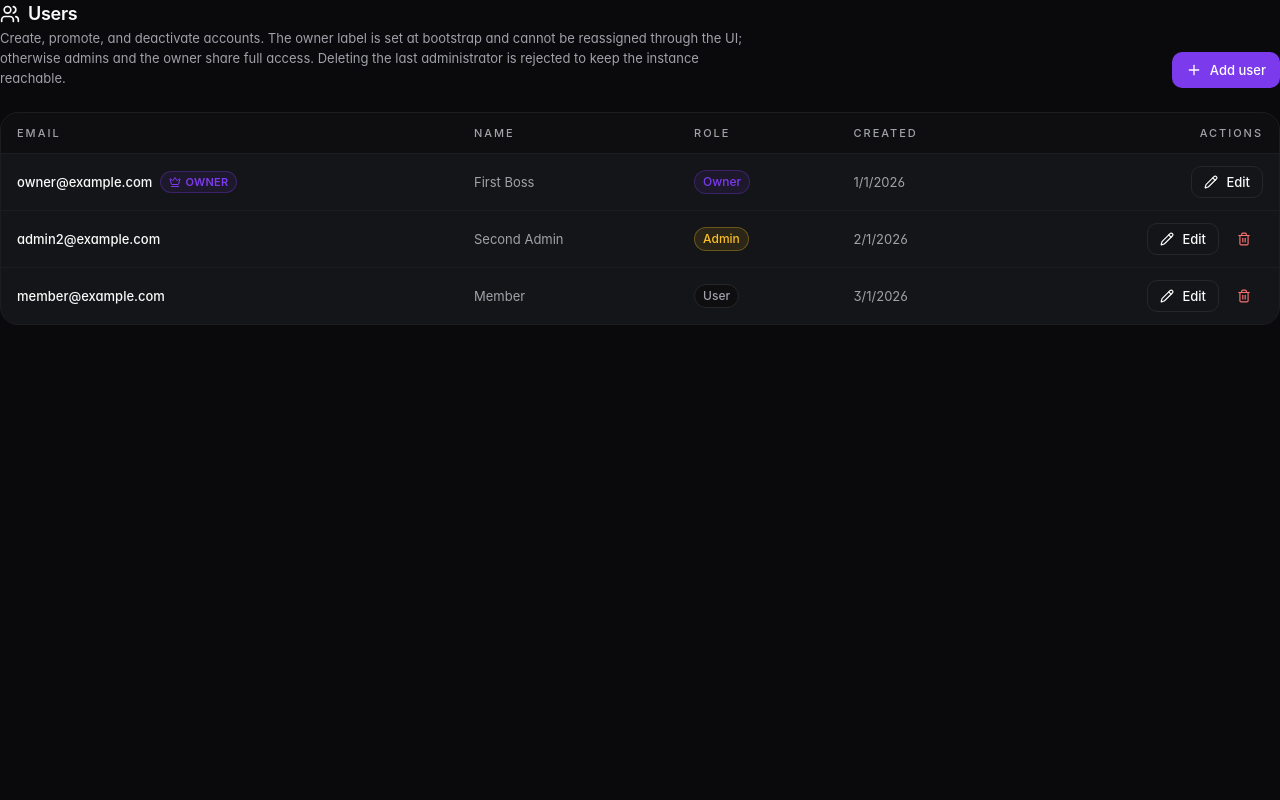
Test case: AdminUsersPage › creates a new user via POST and refreshes the list
Expected: the text "owner@example.com" is shown, [17,172,152,192]
Click the button "Add user" at {"x": 1226, "y": 70}, box [1172,52,1279,88]
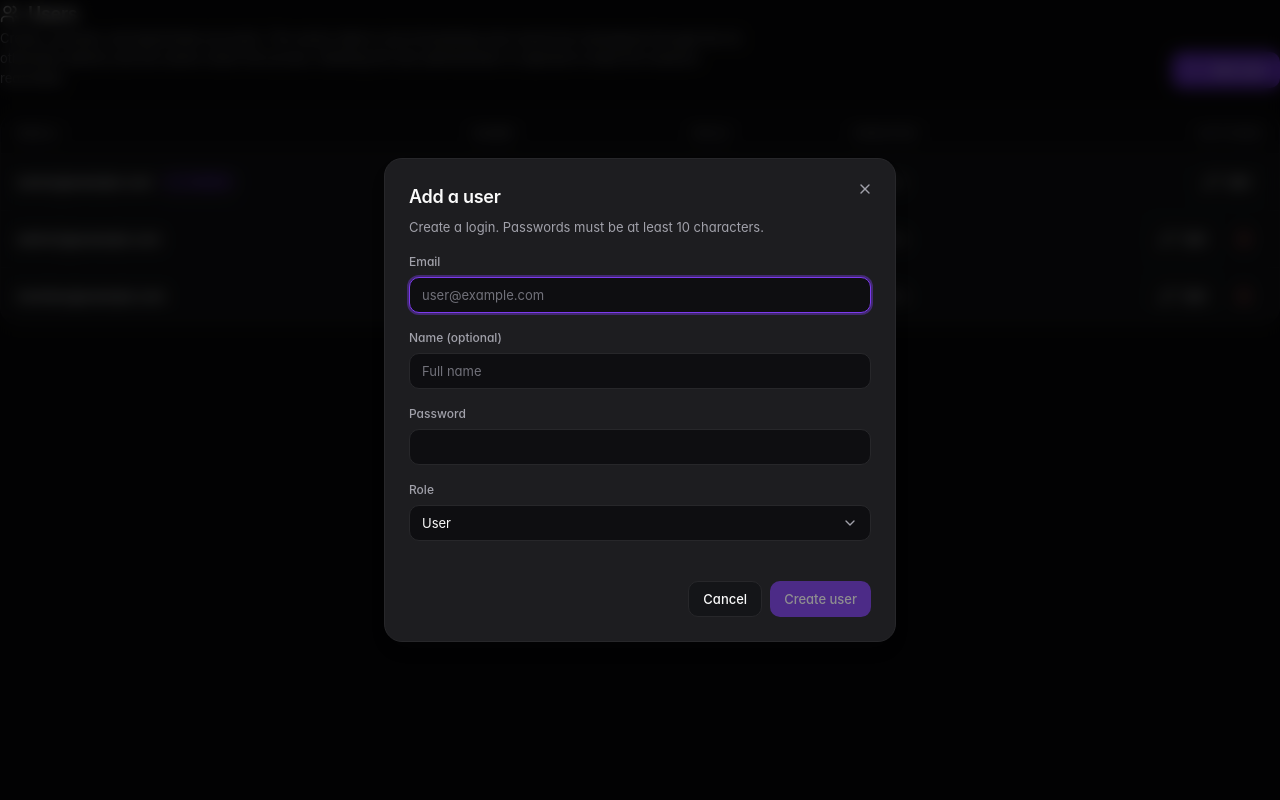
Type "newbie@example.com" into the field with placeholder "user@example.com" at {"x": 640, "y": 295}, box [409,277,871,313]
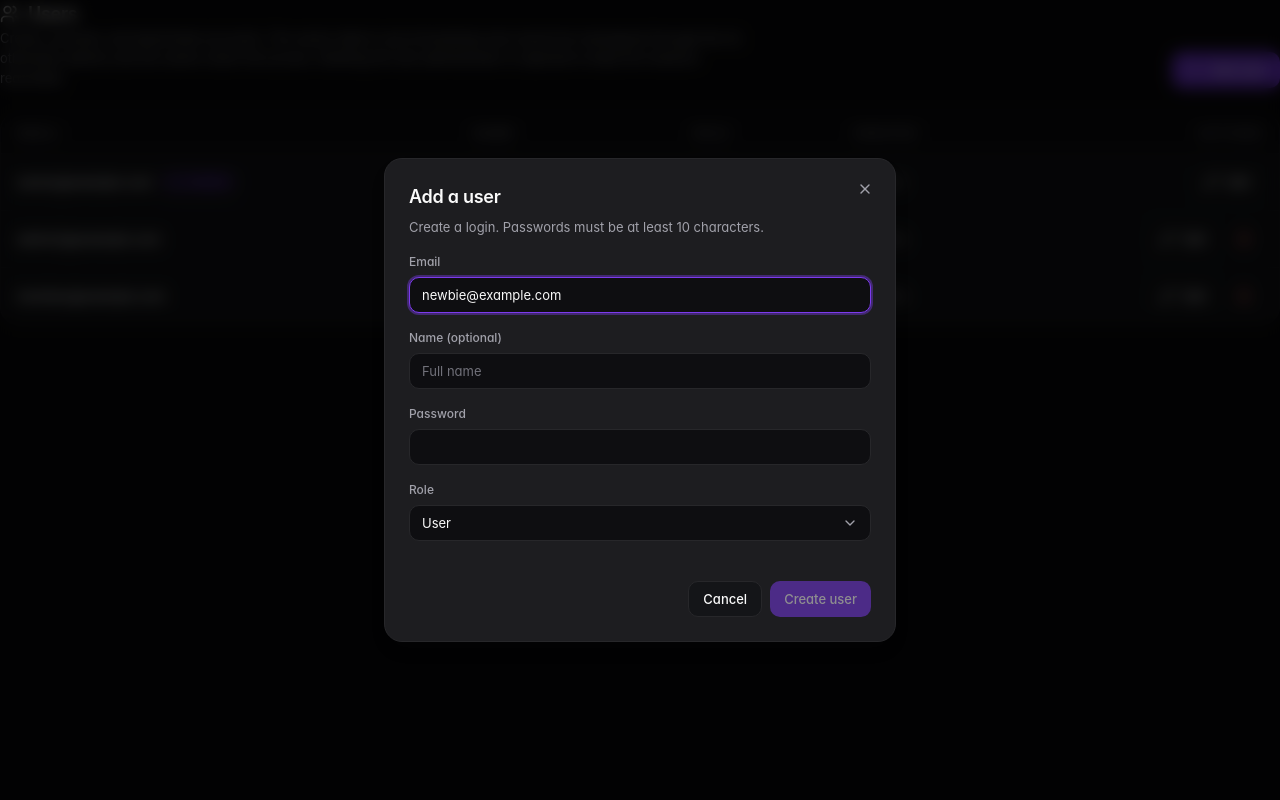
Type "Newbie" into the field with placeholder "Full name" at {"x": 640, "y": 371}, box [409,353,871,389]
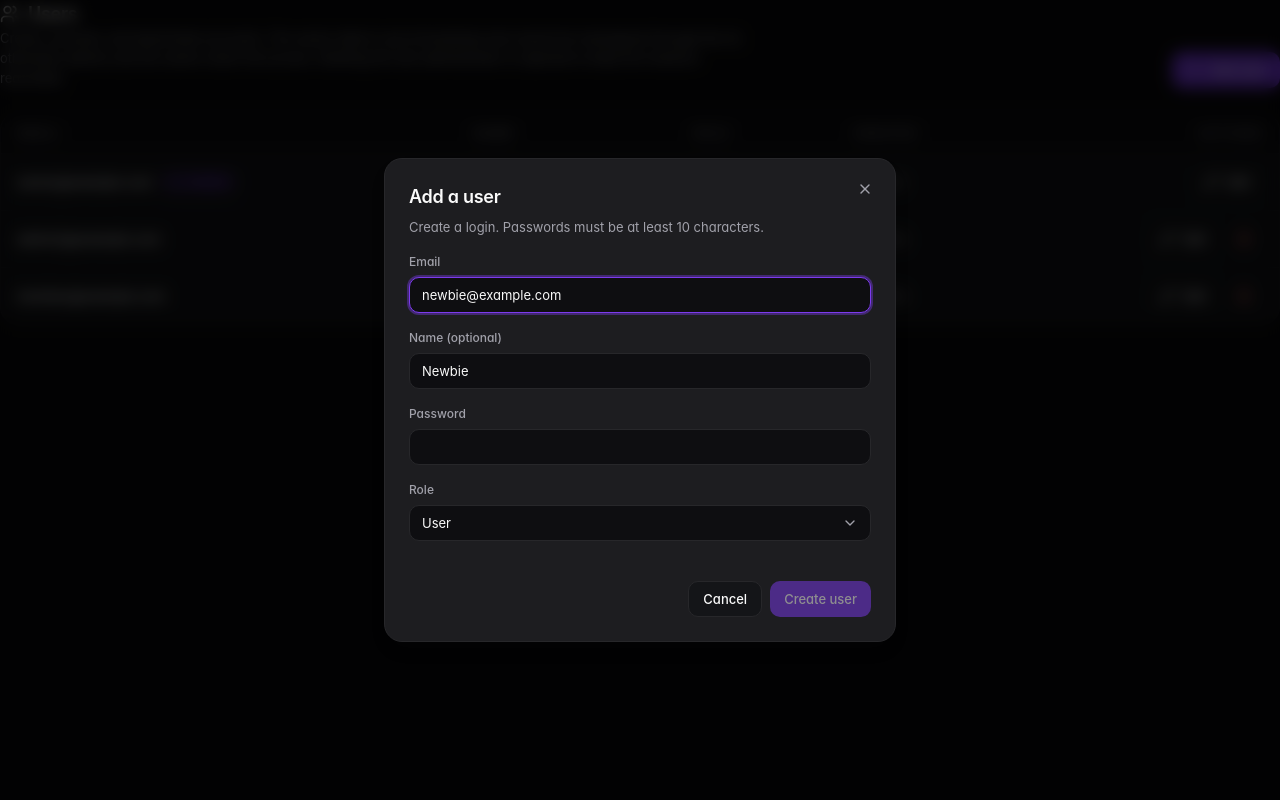
Type "supersecret123" into the password field at {"x": 640, "y": 447}, box [409,429,871,465]
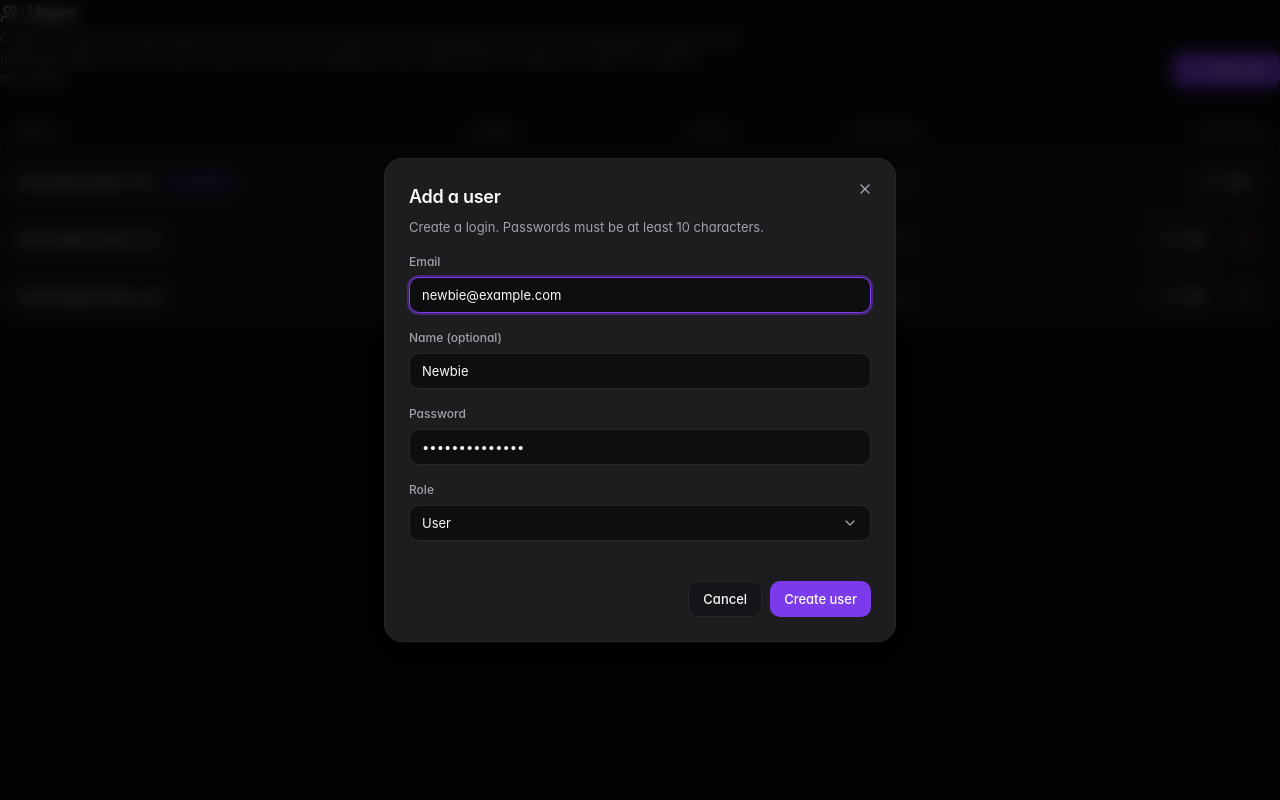
Click the button "Create user" at {"x": 821, "y": 599}, box [770,581,871,617]
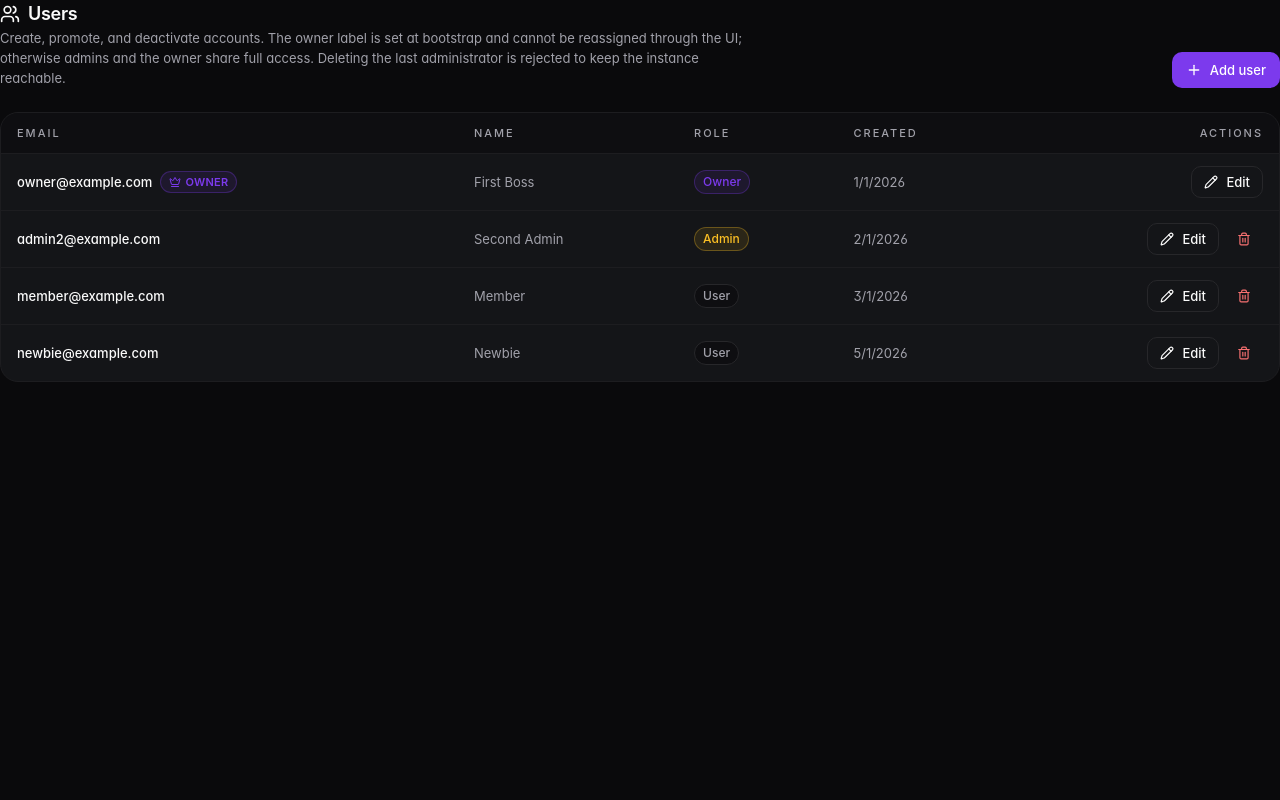
Now the text "newbie@example.com" is shown, box [17,343,158,363]
